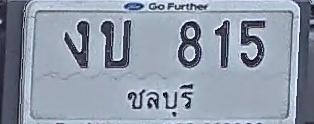1: (214, 19, 230, 67)
5: (240, 20, 265, 67)
8: (178, 20, 202, 67)
A07: (64, 20, 89, 68)
A26: (100, 19, 132, 68)
CBI: (125, 82, 194, 118)
